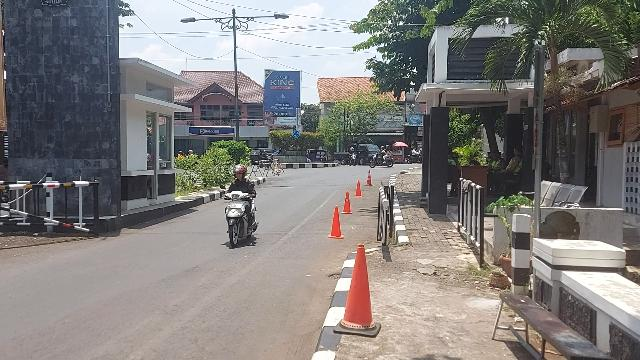helm: (235, 165, 248, 179)
motor: (221, 193, 260, 250)
